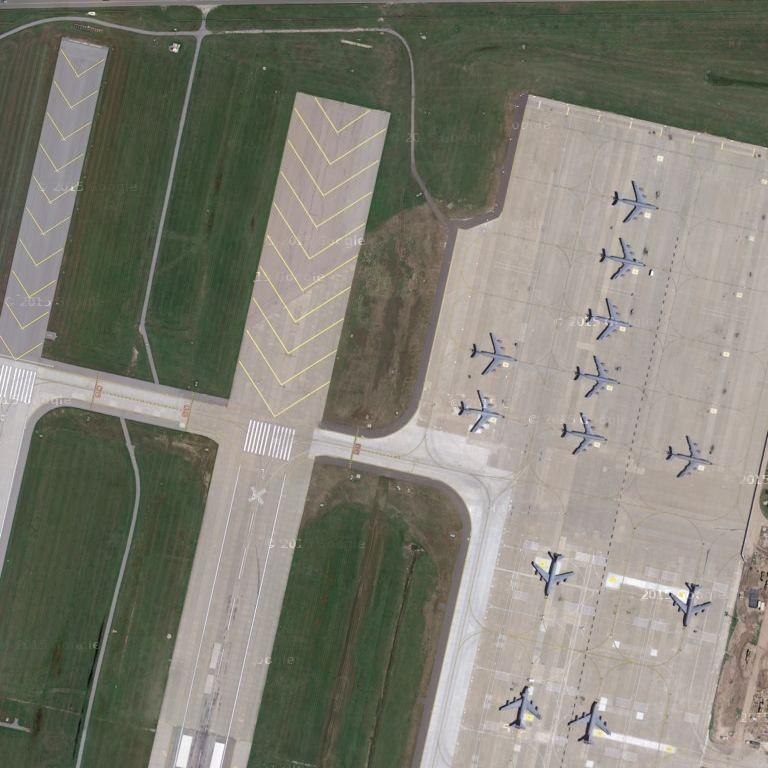KC-135: (527, 550, 579, 600), (593, 237, 649, 283), (608, 179, 661, 226), (584, 297, 637, 344), (663, 432, 716, 479), (666, 579, 714, 630), (558, 411, 610, 456), (571, 356, 623, 400), (500, 683, 547, 731), (470, 332, 519, 378), (568, 698, 613, 748), (457, 388, 504, 434)
